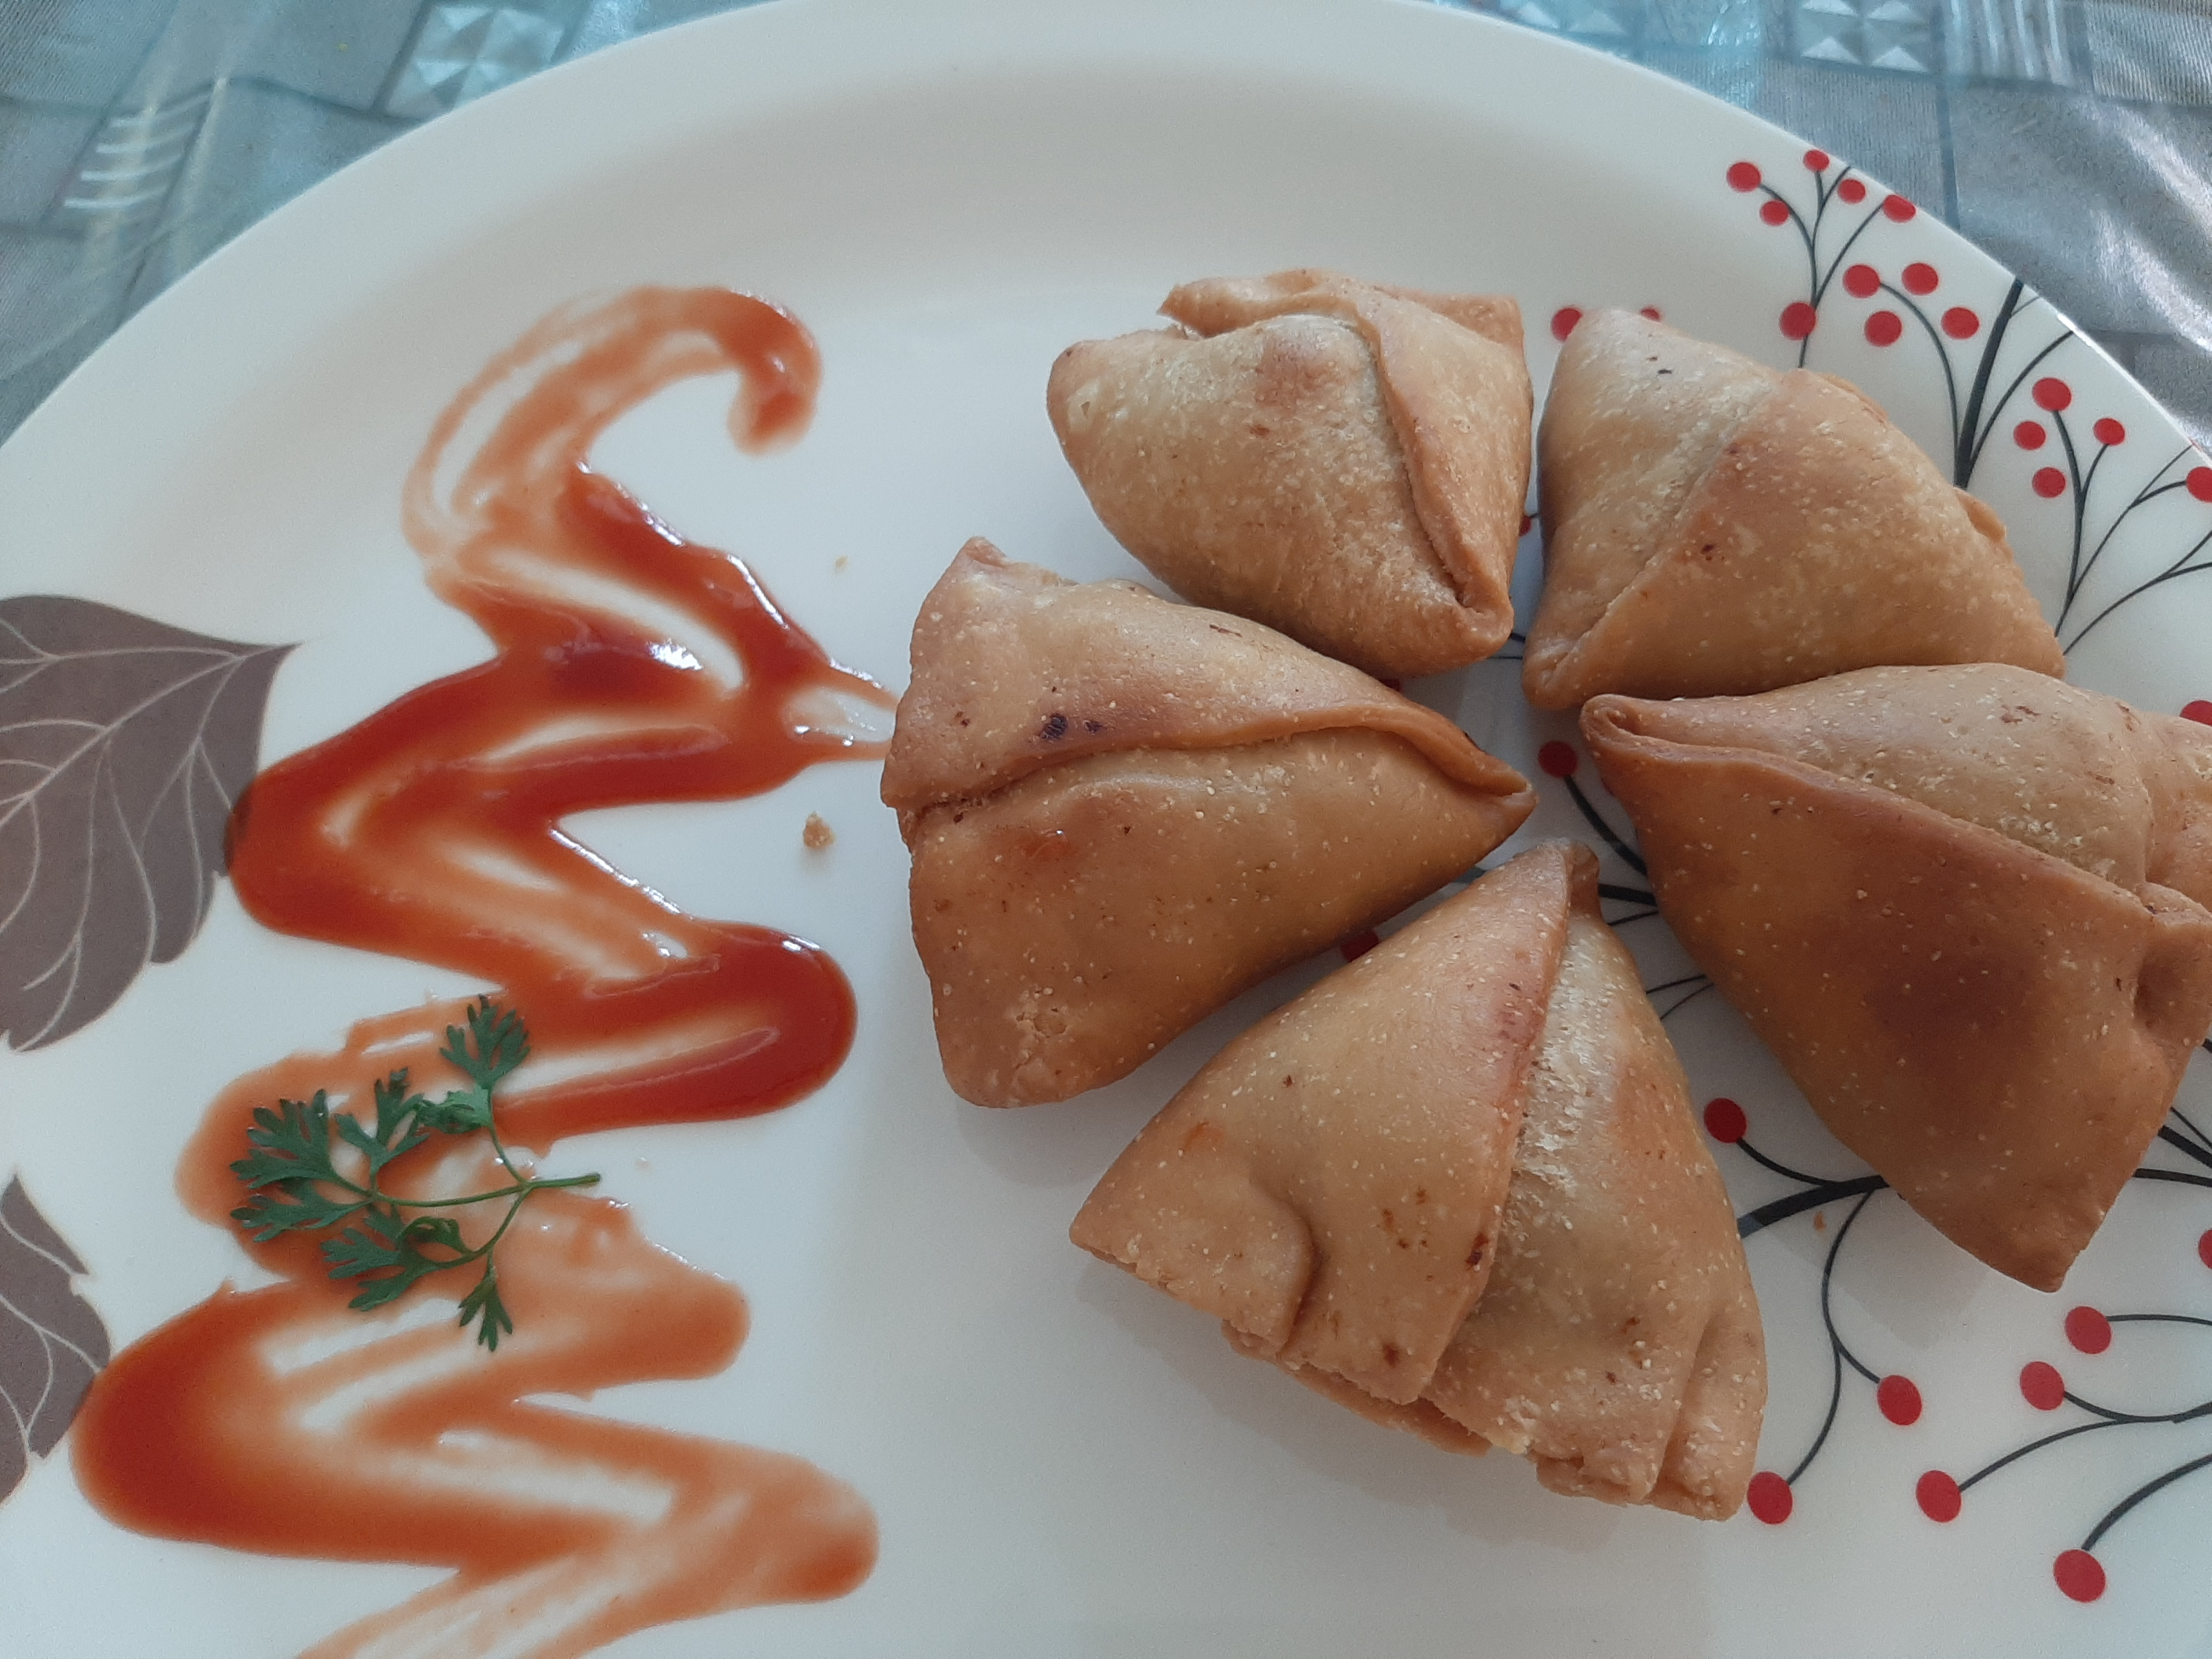food: (64, 253, 2210, 1654)
